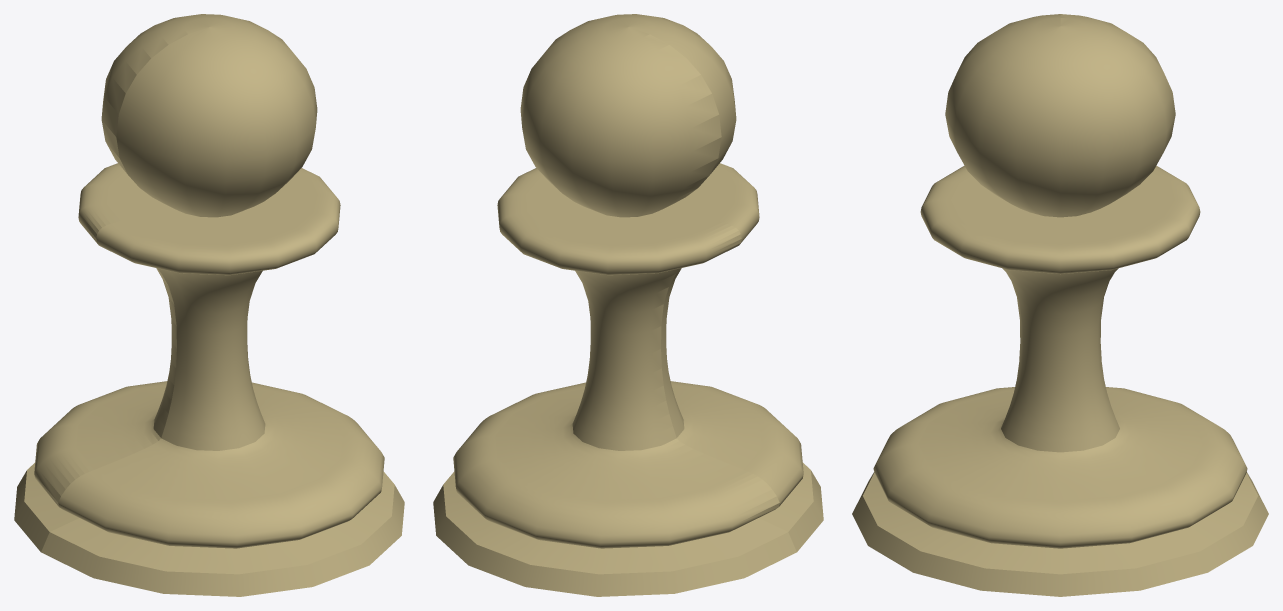
The model's file is Pawn_piece.fbx.
3 renders of one model, left to right at view 1: azimuth 30°, elevation 25°; view 2: azimuth 150°, elevation 25°; view 3: azimuth 270°, elevation 25°, orthographic.
Parts seen in each view (by area): view 1: Pawn; view 2: Pawn; view 3: Pawn.
Part boxes in pixels (x1,y1,x2,y2): Pawn: (14,14,404,596); Pawn: (433,14,823,596); Pawn: (852,14,1268,596).
Size of the model in its own units: 2.4 by 3.3 by 2.55.
